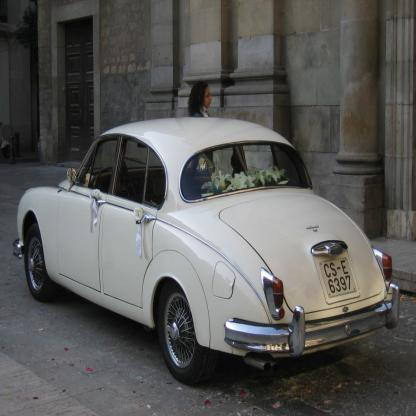Car: (14, 117, 400, 387)
